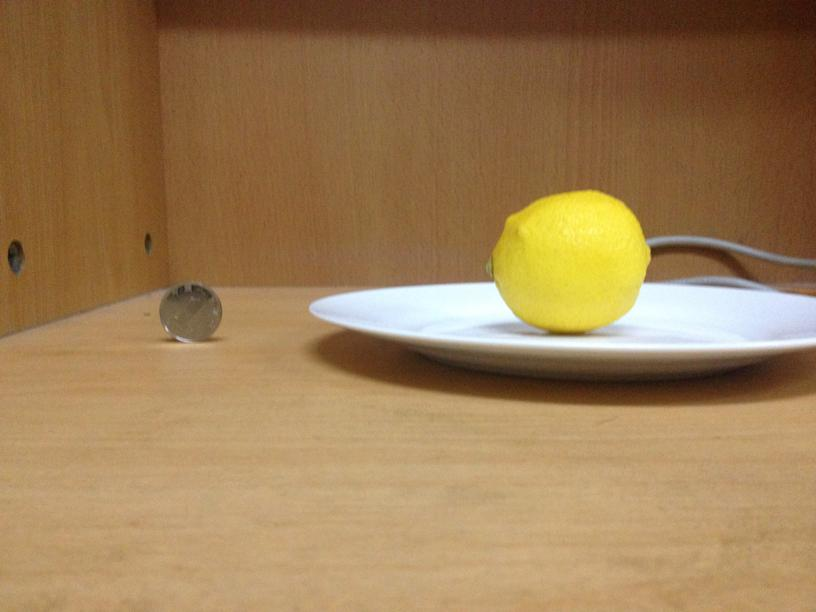coin: (157, 280, 222, 343)
lemon: (485, 190, 654, 331)
